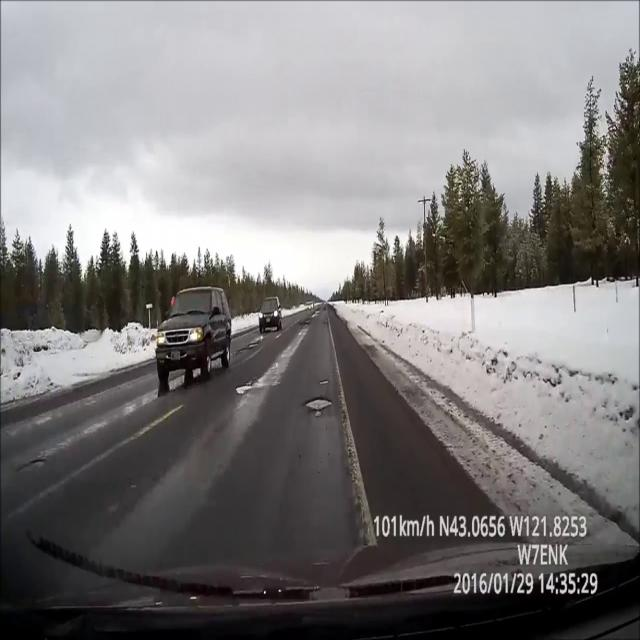Pothole: (304, 391, 337, 417), (237, 341, 259, 355), (235, 384, 258, 394), (302, 322, 310, 326)
